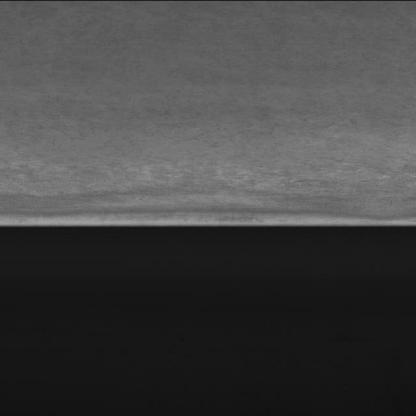silk_spot: (30, 138, 403, 206)
